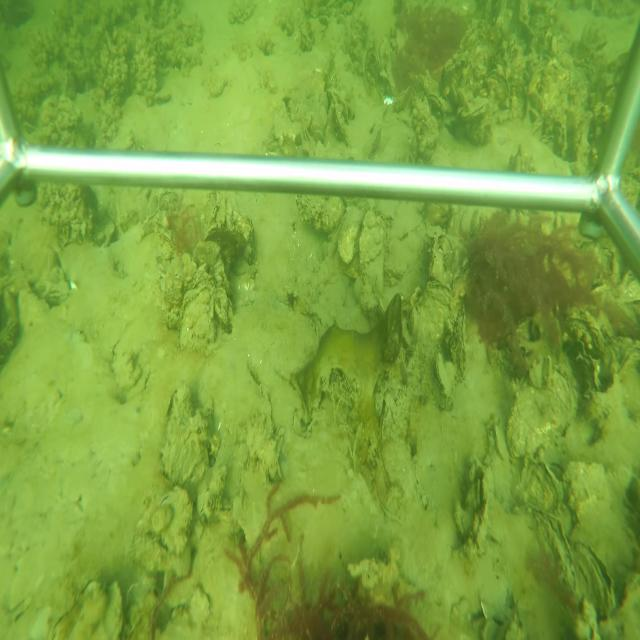Oyster-Closed: (249, 293, 320, 380), (408, 282, 453, 341), (357, 211, 387, 280), (337, 203, 364, 270), (296, 195, 344, 232), (384, 291, 402, 360), (454, 305, 468, 382), (435, 352, 454, 402), (490, 419, 507, 461), (428, 233, 443, 278), (459, 101, 489, 123), (378, 393, 389, 445), (426, 90, 446, 115)
Oyster-Indeterminate: (506, 358, 577, 460), (160, 381, 207, 486), (178, 264, 218, 351)
Oyster-Open: (456, 463, 492, 558), (573, 540, 615, 614)
